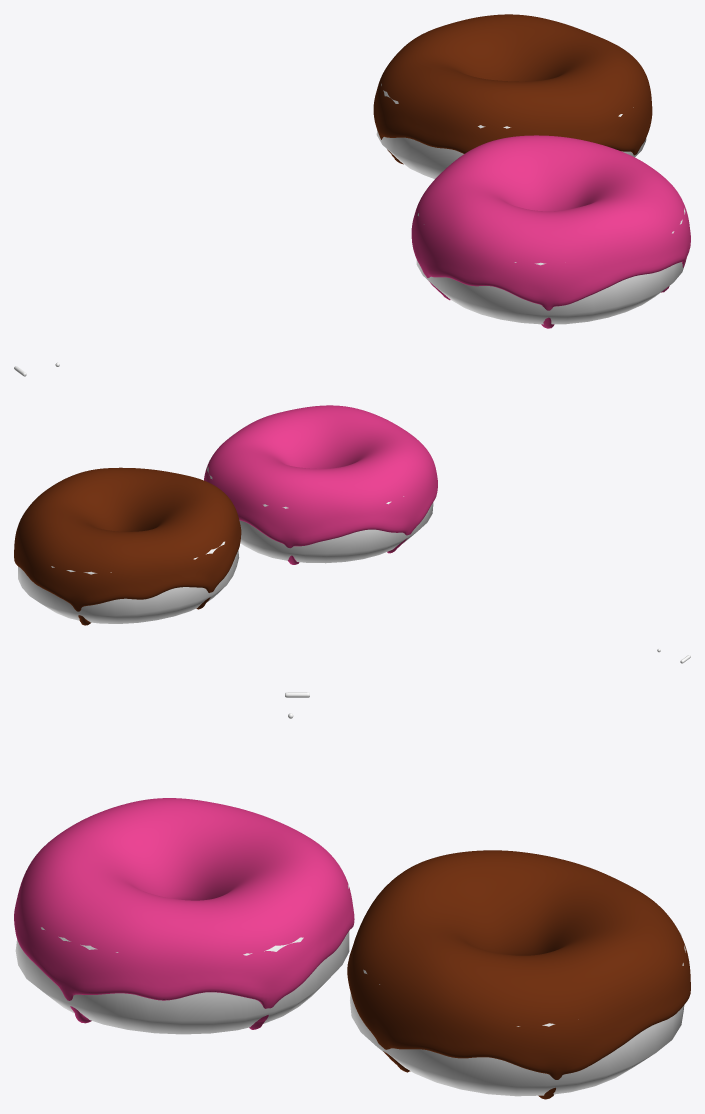
File: donut.glb
3 renders of one model, top to bottom at view 1: azimuth 30°, elevation 25°; view 2: azimuth 150°, elevation 25°; view 3: azimuth 270°, elevation 25°, orthographic. The views are drawn at different scales.
Visible parts, largest first — view 1: Icing, Icing.005, Donut, Donut.005; view 2: Icing.005, Icing, Donut.005, Donut; view 3: Icing.005, Icing, Donut, Donut.005.
Part boxes in pixels (<box>): Icing: <box>411,135,690,328</box>; Icing.005: <box>373,14,652,164</box>; Donut: <box>416,208,685,324</box>; Donut.005: <box>376,83,646,178</box>; Icing.005: <box>14,467,241,625</box>; Icing: <box>204,405,437,564</box>; Donut.005: <box>18,541,239,623</box>; Donut: <box>207,460,433,563</box>; Icing.005: <box>347,850,690,1099</box>; Icing: <box>14,798,354,1029</box>; Donut: <box>15,884,349,1034</box>; Donut.005: <box>350,931,685,1096</box>.
Size of the model in its own units: 0.3678 by 0.0601 by 0.2472.
